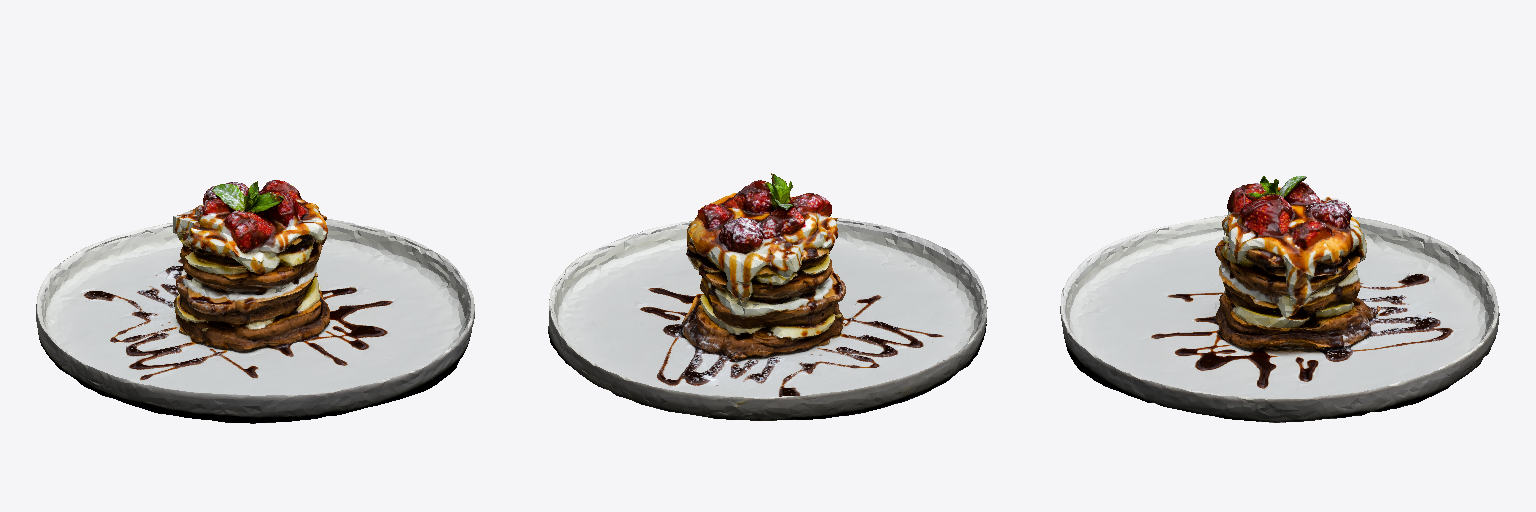
3 renders of one model, left to right at view 1: azimuth 30°, elevation 25°; view 2: azimuth 150°, elevation 25°; view 3: azimuth 270°, elevation 25°, orthographic.
Visible parts, largest first — view 1: 21.obj; view 2: 21.obj; view 3: 21.obj.
Boxes of the visible parts, box(x1,y1,x2,y2) form: 21.obj: box(36, 180, 474, 423); 21.obj: box(548, 173, 987, 420); 21.obj: box(1060, 176, 1499, 422).
Size of the model in its own units: 1.13 by 0.4333 by 1.12.
1 materials, 1 textured.